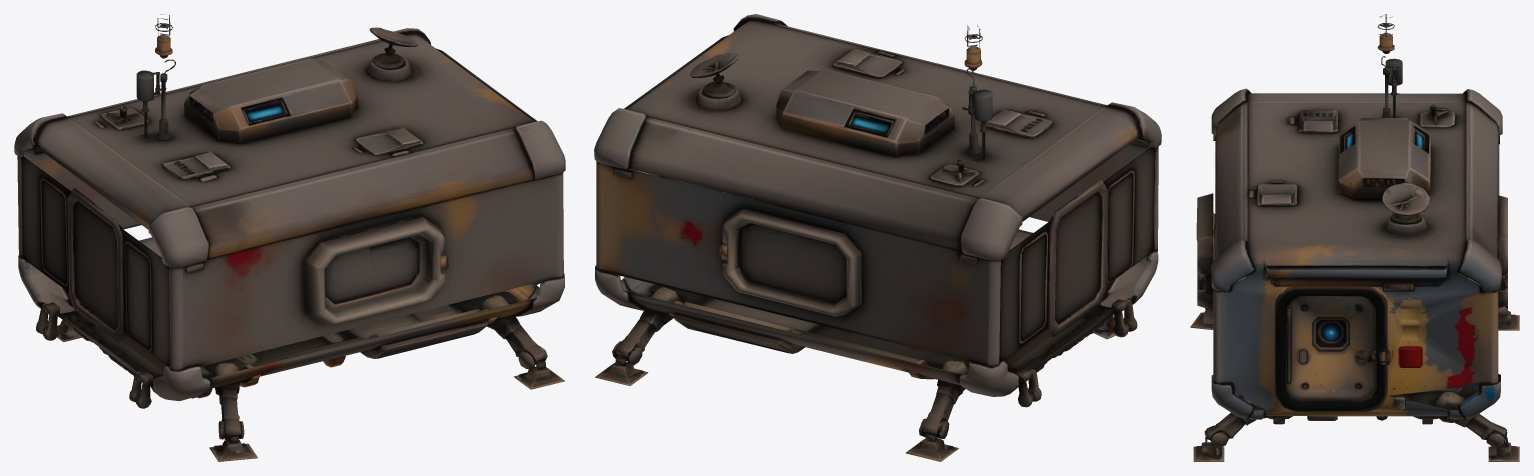
File: checkpost.glb
3 views of the same model, side by side, from view 1: azimuth 30°, elevation 25°; view 2: azimuth 150°, elevation 25°; view 3: azimuth 270°, elevation 25° (orthographic). The views are drawn at different scales.
Parts seen in each view (by area): view 1: tripo_node_23b01a6a-0893-4bae-b8f2-2b776786d411; view 2: tripo_node_23b01a6a-0893-4bae-b8f2-2b776786d411; view 3: tripo_node_23b01a6a-0893-4bae-b8f2-2b776786d411.
Part boxes in pixels (left/top/right/bottom): tripo_node_23b01a6a-0893-4bae-b8f2-2b776786d411: left=14, top=14, right=565, bottom=461; tripo_node_23b01a6a-0893-4bae-b8f2-2b776786d411: left=594, top=14, right=1161, bottom=461; tripo_node_23b01a6a-0893-4bae-b8f2-2b776786d411: left=1190, top=14, right=1519, bottom=461.
Bounding box in the file's own units: 1.42 × 1.19 × 1.12.
1 material, 1 textured.
